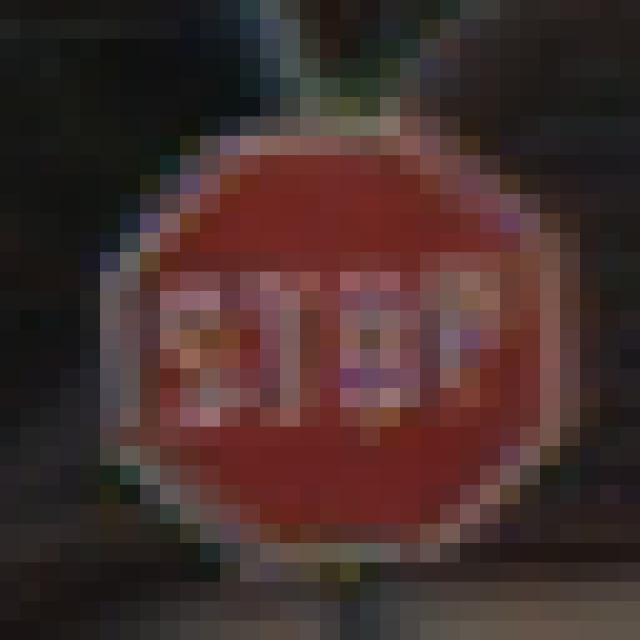STOP: (101, 98, 541, 525)
